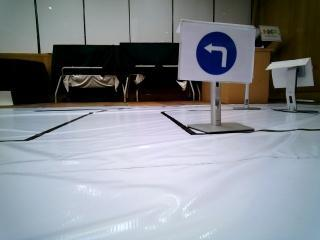left: (183, 21, 252, 81), (281, 104, 281, 105)
